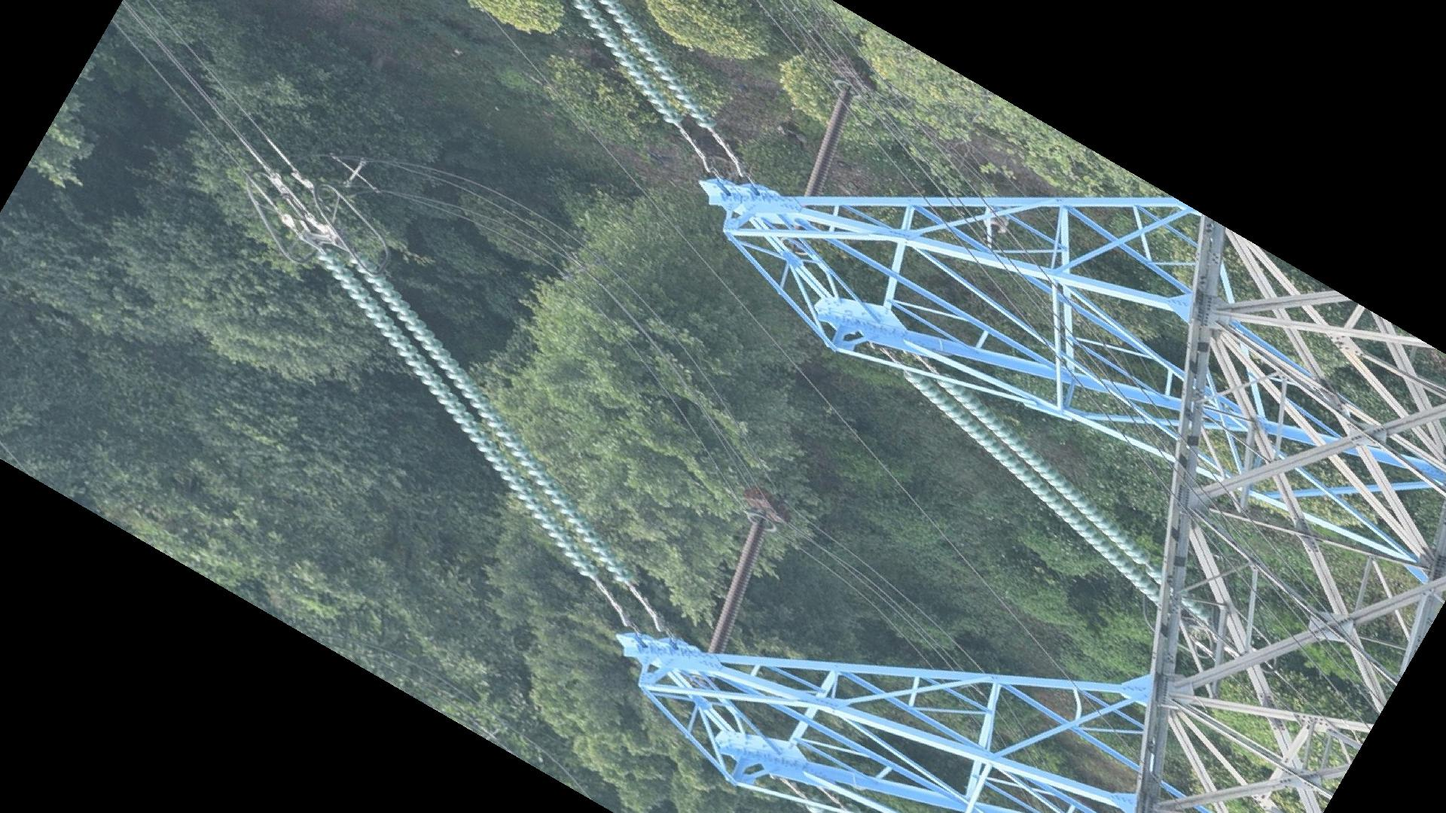insulator: (312, 243, 637, 585), (900, 364, 1207, 619), (569, 1, 718, 132), (705, 516, 768, 653), (799, 87, 856, 200)
insulator_stringdrop: (1133, 551, 1167, 581)
